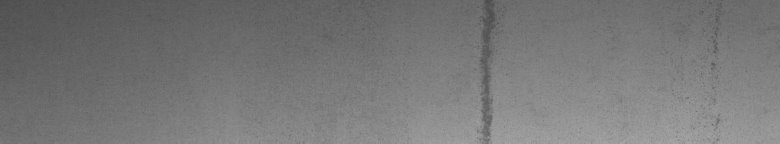hd: (472, 4, 503, 136)
